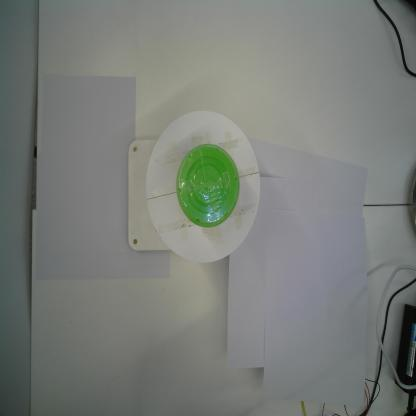Instant Drink: (176, 143, 240, 228)
